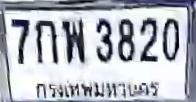0: (162, 16, 178, 60)
2: (139, 17, 157, 61)
3: (95, 18, 112, 62)
7: (10, 19, 30, 64)
8: (117, 18, 134, 61)
A01: (34, 19, 58, 64)
A30: (61, 18, 85, 63)
BKK: (32, 77, 162, 102)
